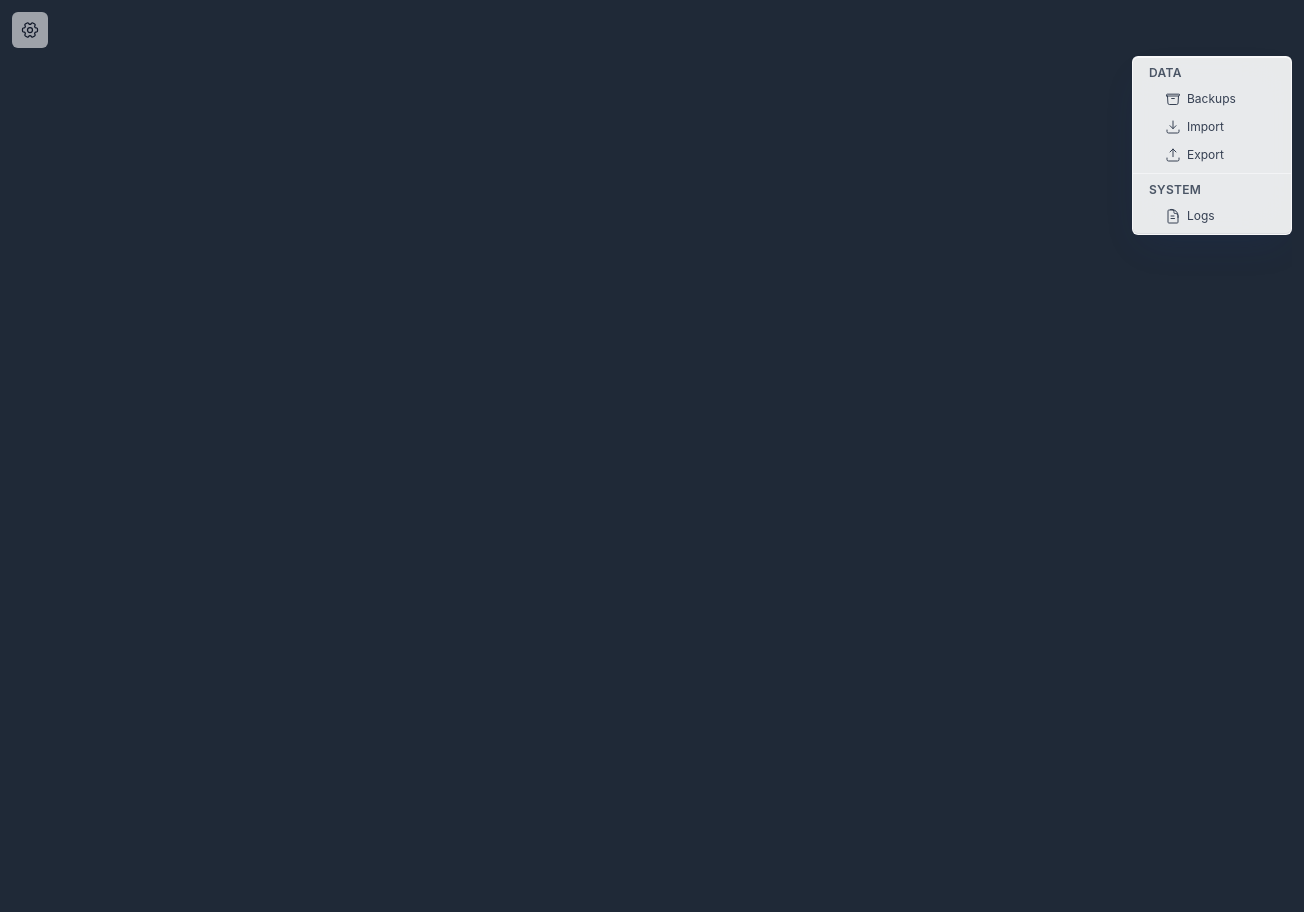
DataManagementMenu › shows an error toast when export fails
Click the menu item "Export".
click(1212, 155)  # box x1=1133 y1=141 x2=1291 y2=169
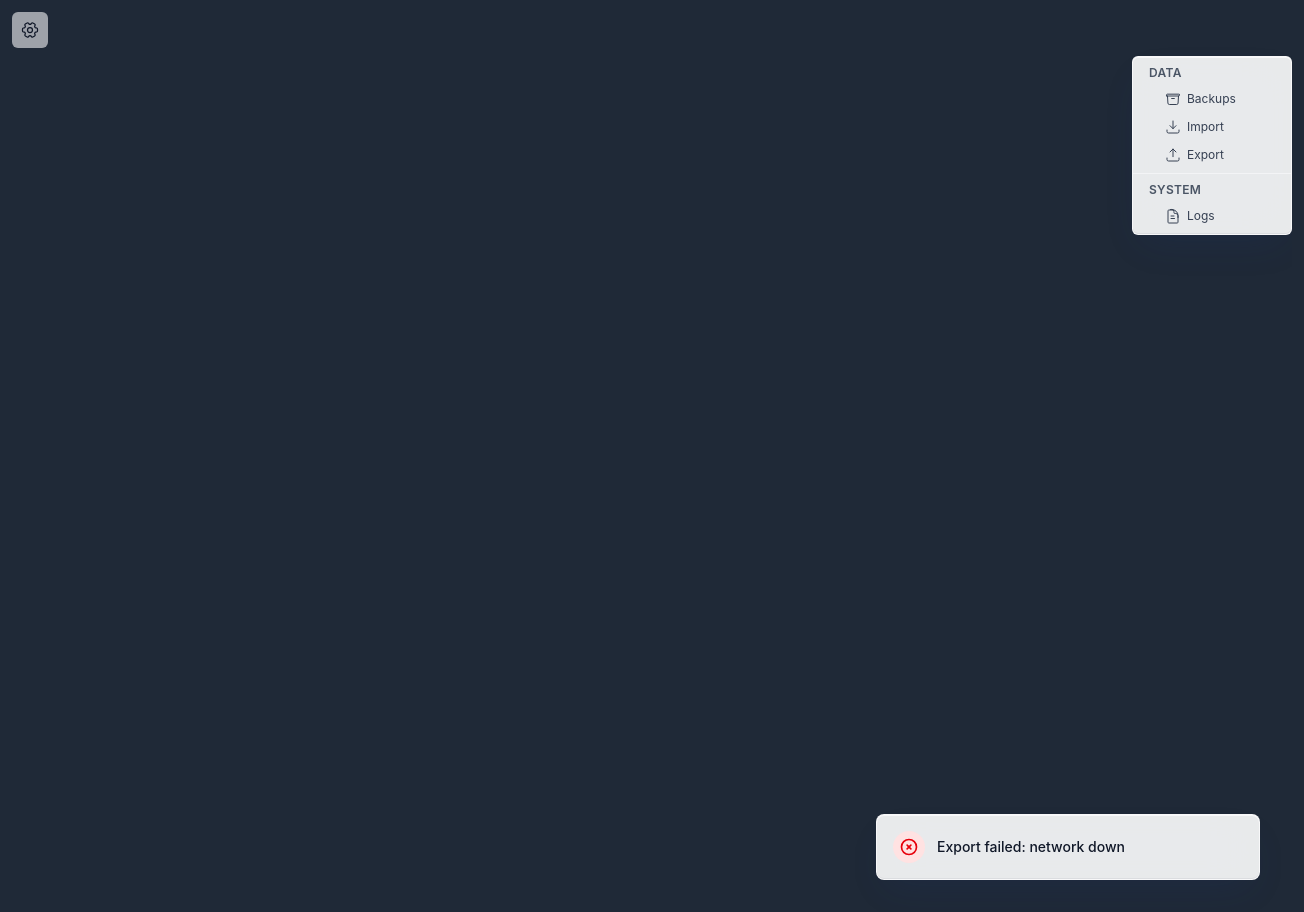
Now the text "Export failed: network down" is shown, box x1=937 y1=837 x2=1125 y2=857
